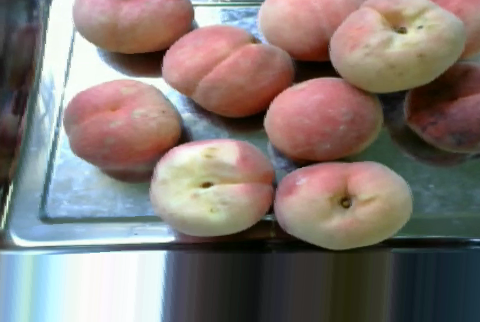Peach: (148, 137, 273, 239), (326, 1, 464, 92), (62, 77, 183, 176), (163, 24, 289, 117), (276, 162, 409, 249), (261, 75, 385, 162), (69, 0, 195, 54), (403, 64, 480, 152)
